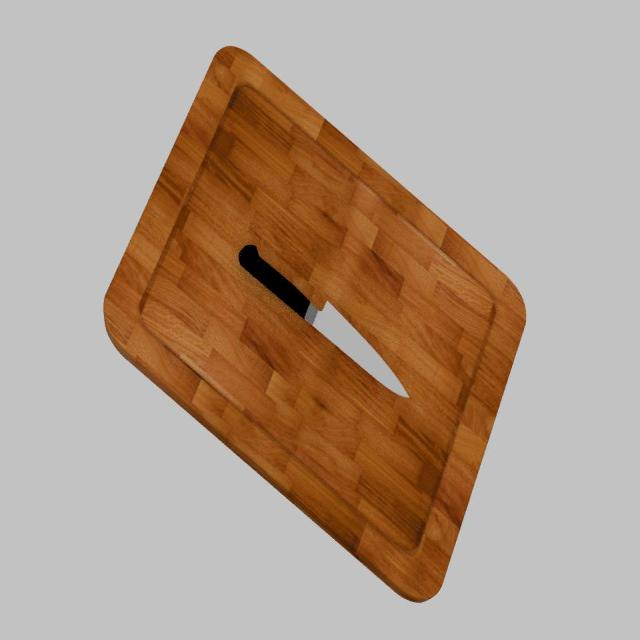knife: (238, 245, 311, 320)
